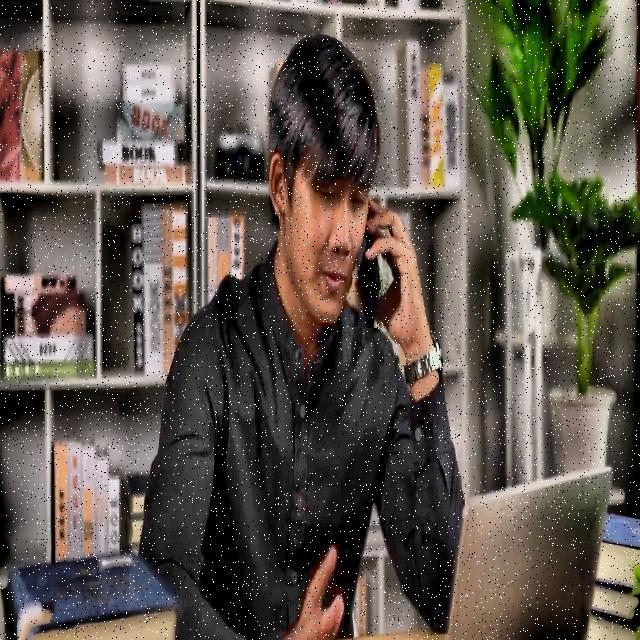Phone: (352, 195, 387, 328)
